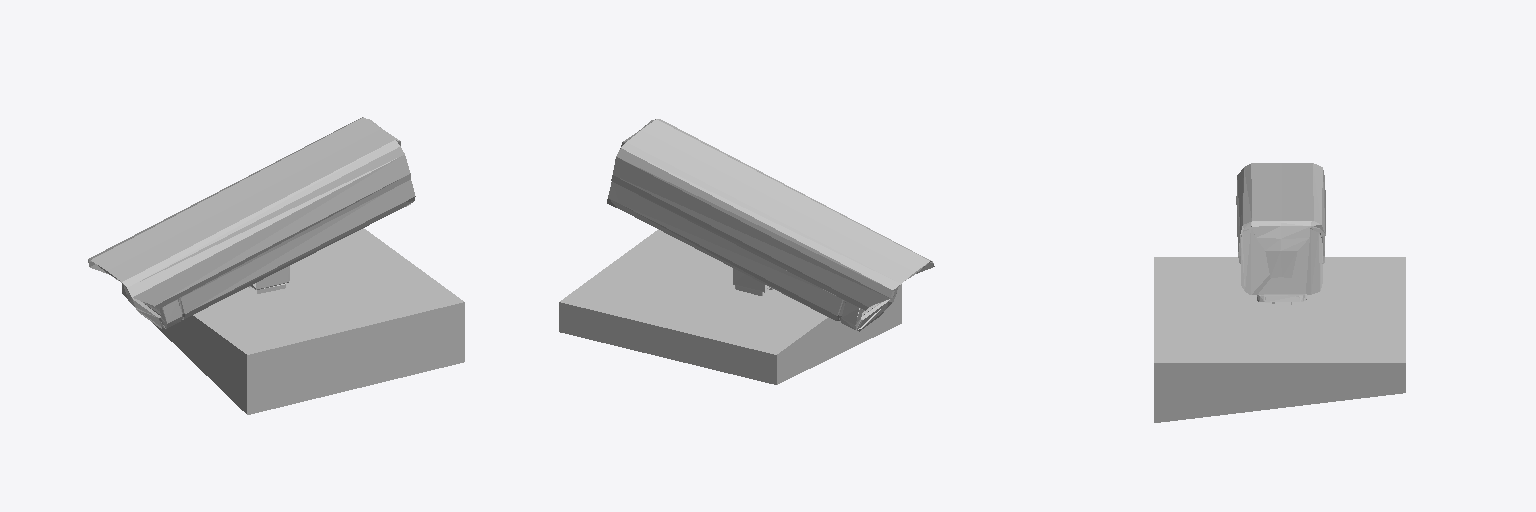
The model's file is camera.obj.
3 views of the same model, side by side, from view 1: azimuth 30°, elevation 25°; view 2: azimuth 150°, elevation 25°; view 3: azimuth 270°, elevation 25° (orthographic).
Visible parts, largest first — view 1: Rectangle001; view 2: Rectangle001; view 3: Rectangle001.
Boxes of the visible parts, <box> form: Rectangle001: <box>88,117,464,414</box>; Rectangle001: <box>559,119,934,384</box>; Rectangle001: <box>1154,163,1405,422</box>.
Size of the model in its own units: 280 by 172 by 204.